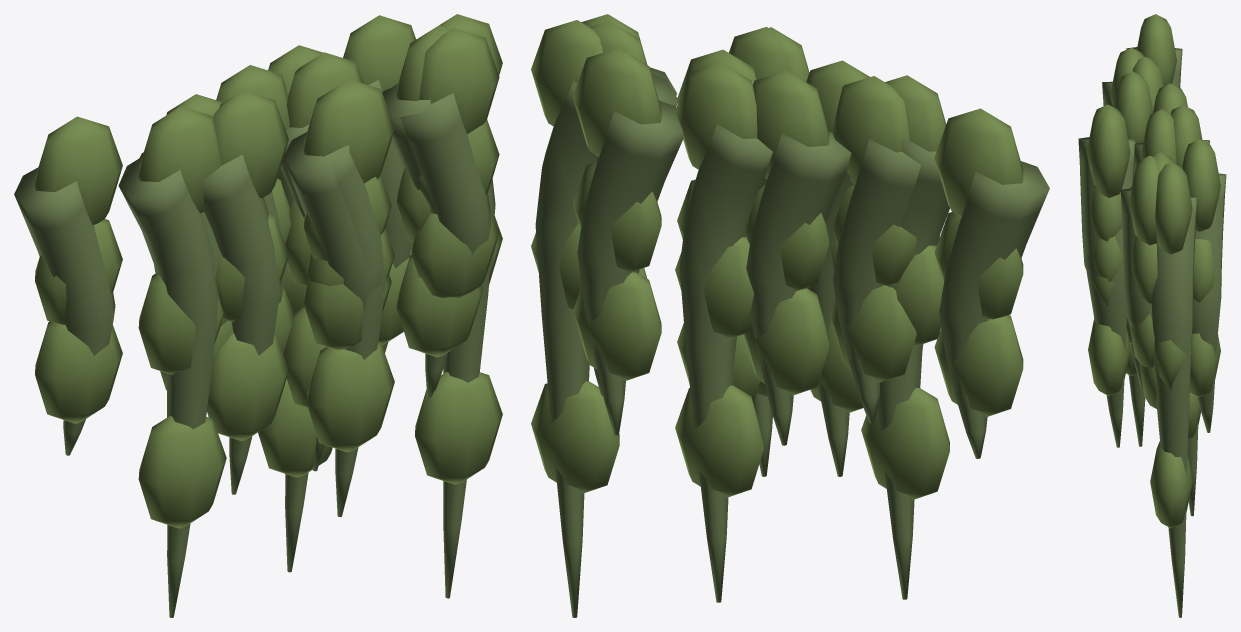
The model's file is SM_RB_MossPendant.fbx.
3 views of the same model, side by side, from view 1: azimuth 30°, elevation 25°; view 2: azimuth 150°, elevation 25°; view 3: azimuth 270°, elevation 25° (orthographic). The views are drawn at different scales.
Parts seen in each view (by area): view 1: SM_RB_MossPendant; view 2: SM_RB_MossPendant; view 3: SM_RB_MossPendant.
Part boxes in pixels (x1=…): SM_RB_MossPendant: x1=14, y1=14, x2=502, y2=617; SM_RB_MossPendant: x1=531, y1=14, x2=1049, y2=617; SM_RB_MossPendant: x1=1078, y1=14, x2=1226, y2=617.
Bounding box in the file's own units: 1.46 × 0.4869 × 1.66.
